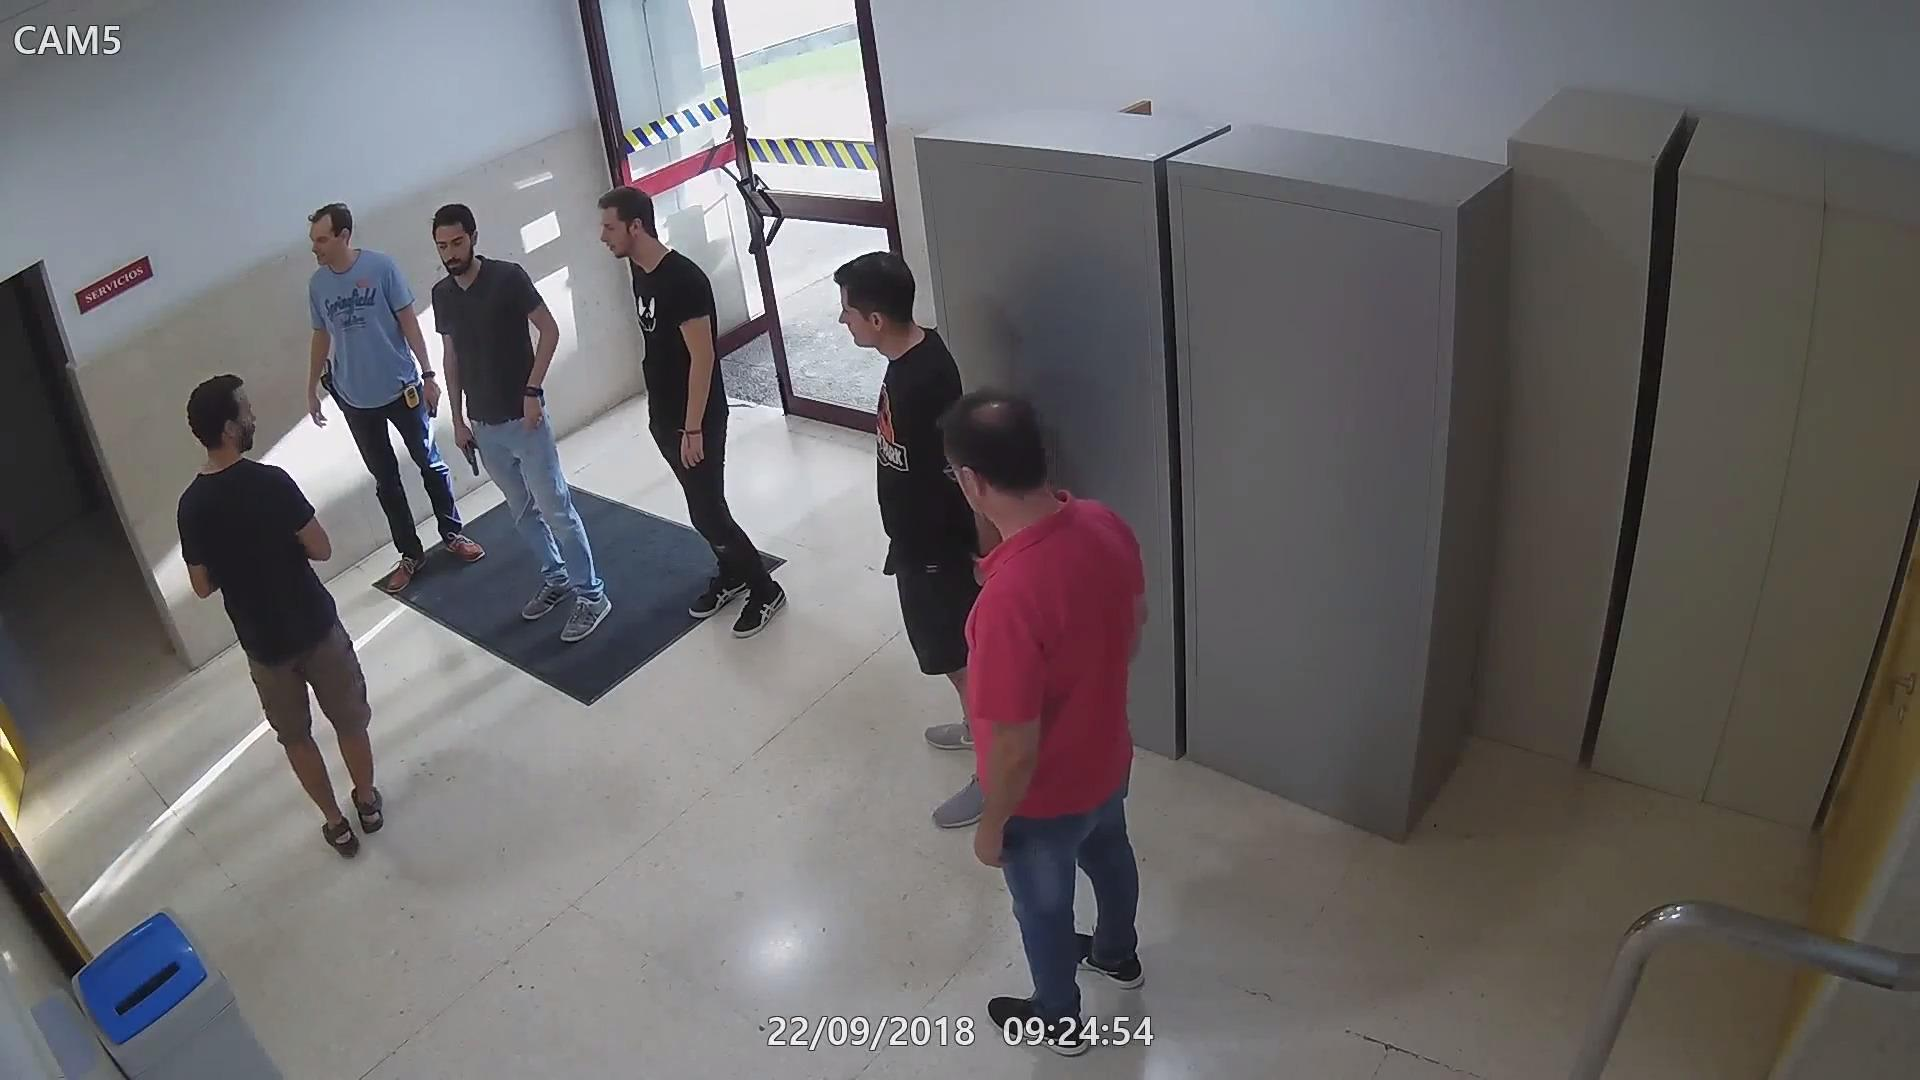Handgun: (313, 351, 342, 418), (450, 418, 481, 477), (878, 531, 901, 580)
